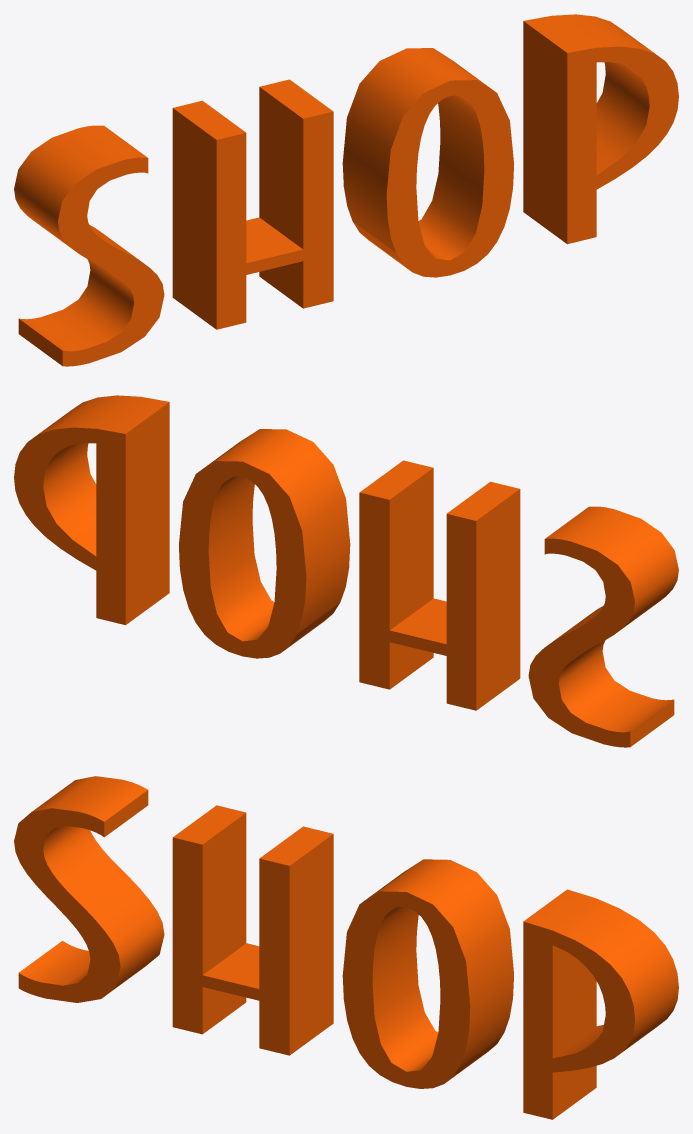
The model's file is text_shop.fbx.
3 renders of one model, top to bottom at view 1: azimuth 30°, elevation 25°; view 2: azimuth 150°, elevation 25°; view 3: azimuth 330°, elevation 25°, orthographic.
Visible parts, largest first — view 1: text_shop; view 2: text_shop; view 3: text_shop.
Part boxes in pixels (bbox=[...]): text_shop: bbox=[14, 14, 678, 366]; text_shop: bbox=[14, 395, 678, 747]; text_shop: bbox=[14, 776, 678, 1119].
Bounding box in the file's own units: 9.66 × 2.9 × 1.18.
